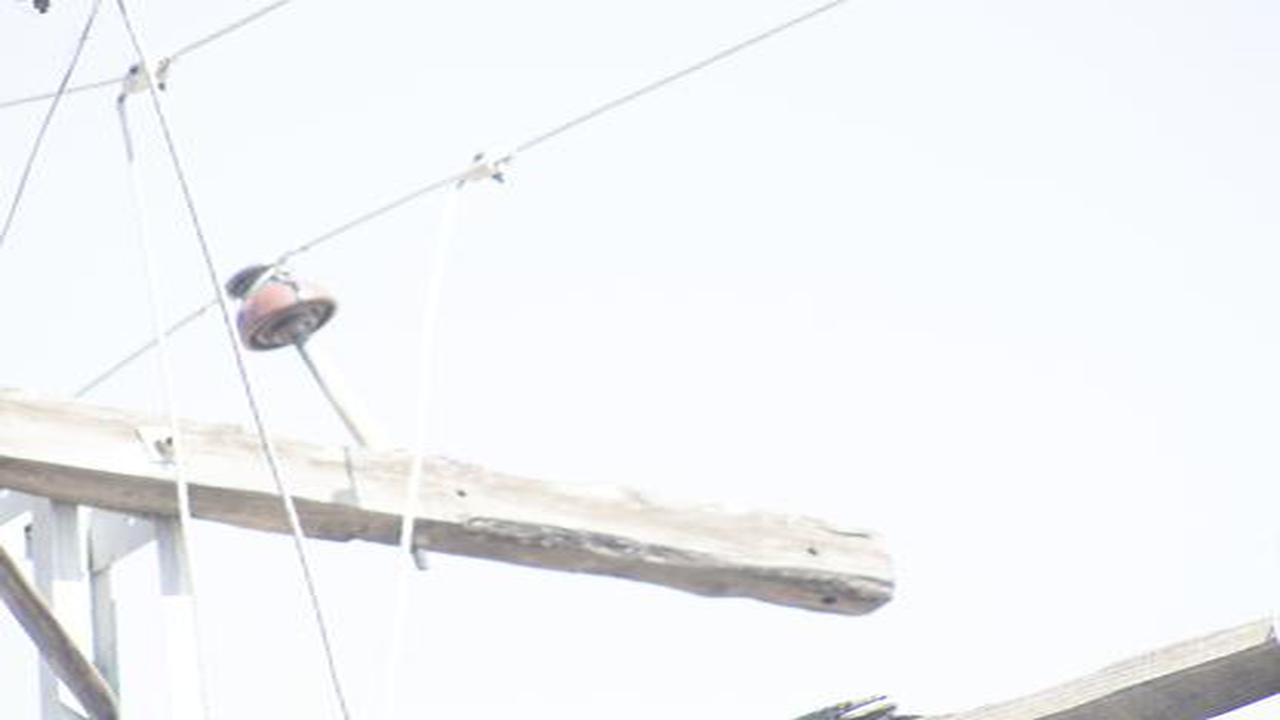insulator_pin: (224, 254, 339, 351)
